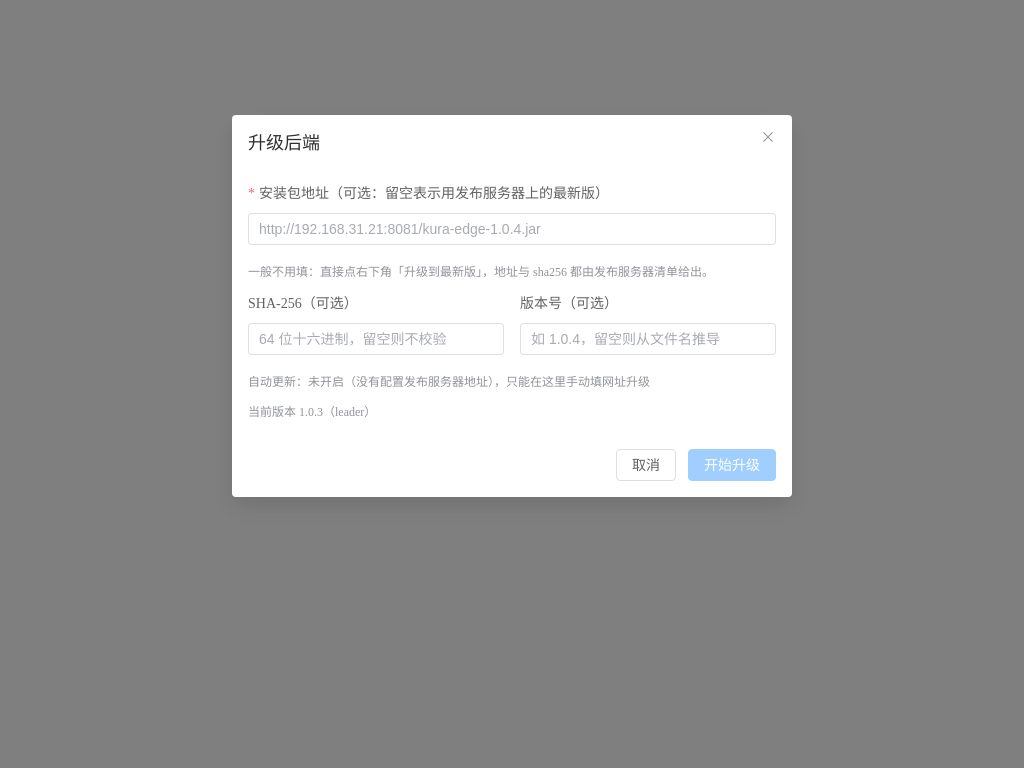
UpgradeDialog › givenOnlyUrlWhenSubmittingThenAcceptedAndRequestUsesEmptyOptionals
This screenshot has width=1024, height=768.
Type "http://192.168.31.40:8000/kura-edge-1.0.4.jar" into the field labelled "安装包地址（可选：留空表示用发布服务器上的最新版）".
click(512, 229); type("http://192.168.31.40:8000/kura-edge-1.0.4.jar")  # box [259,214,765,244]
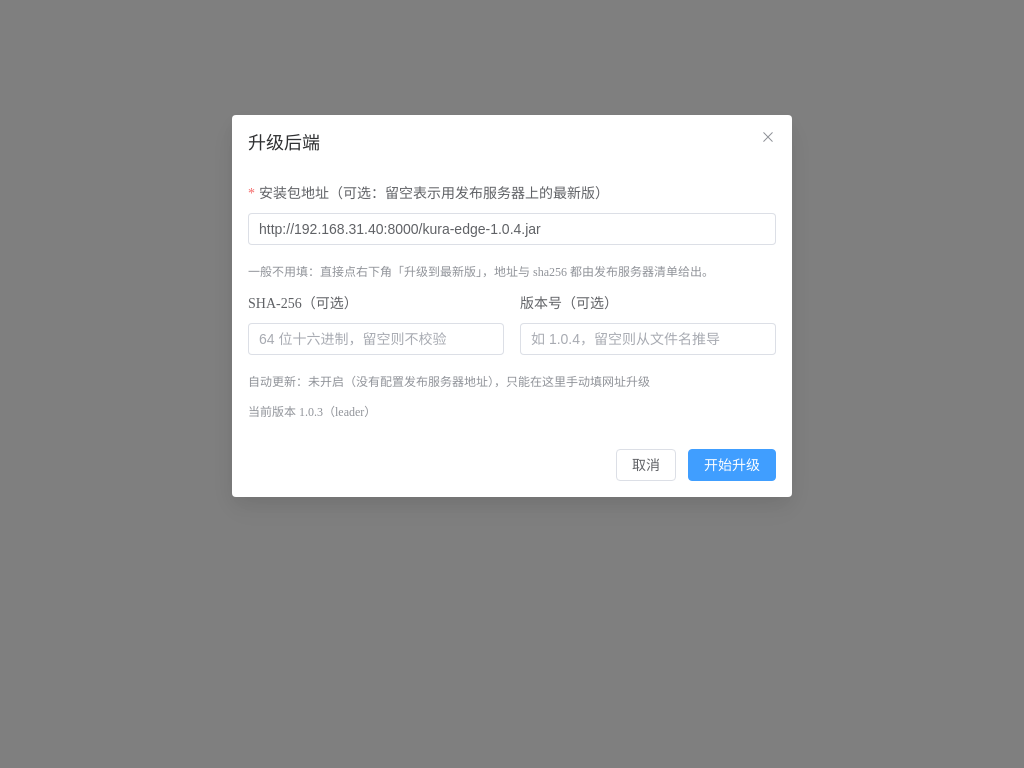
Click the button "开始升级".
click(732, 465)  # box [688,449,776,481]
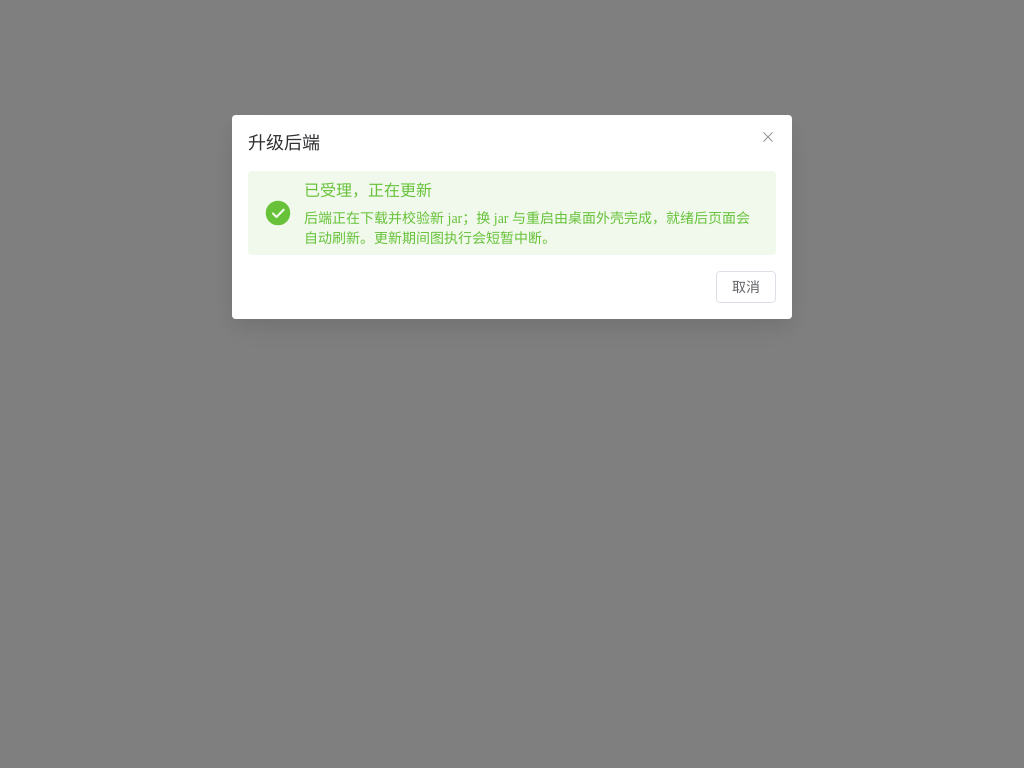
Result: the text "已受理，正在更新" is shown at [304,182,432,199]
